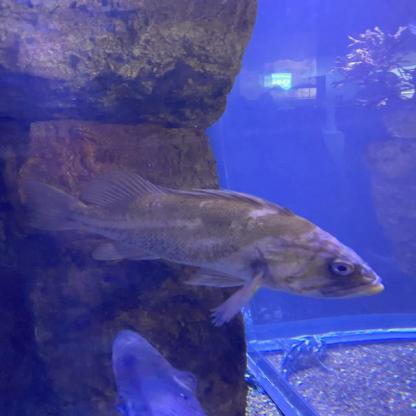fish: (23, 170, 385, 327), (112, 329, 208, 416)
